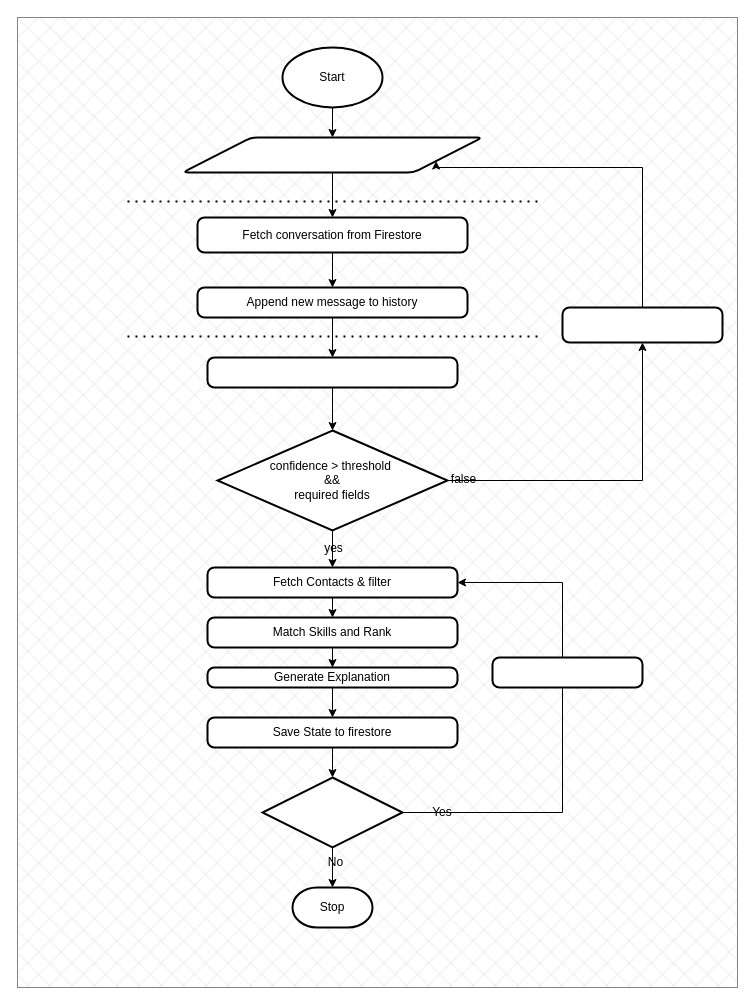
This 755x1005 diagram has some shape labels left out. The shapes that lost their labels are listed below. From the top down, each one's centre as x and y in pixels, then its label:
At [332,154]: "Recieve Slack Message".
At [642,324]: "Ask clarifying question".
At [332,372]: "LLM: Extract Problem State + Confidence".
At [567,672]: "update problem state".
At [332,812]: "user feedback".
